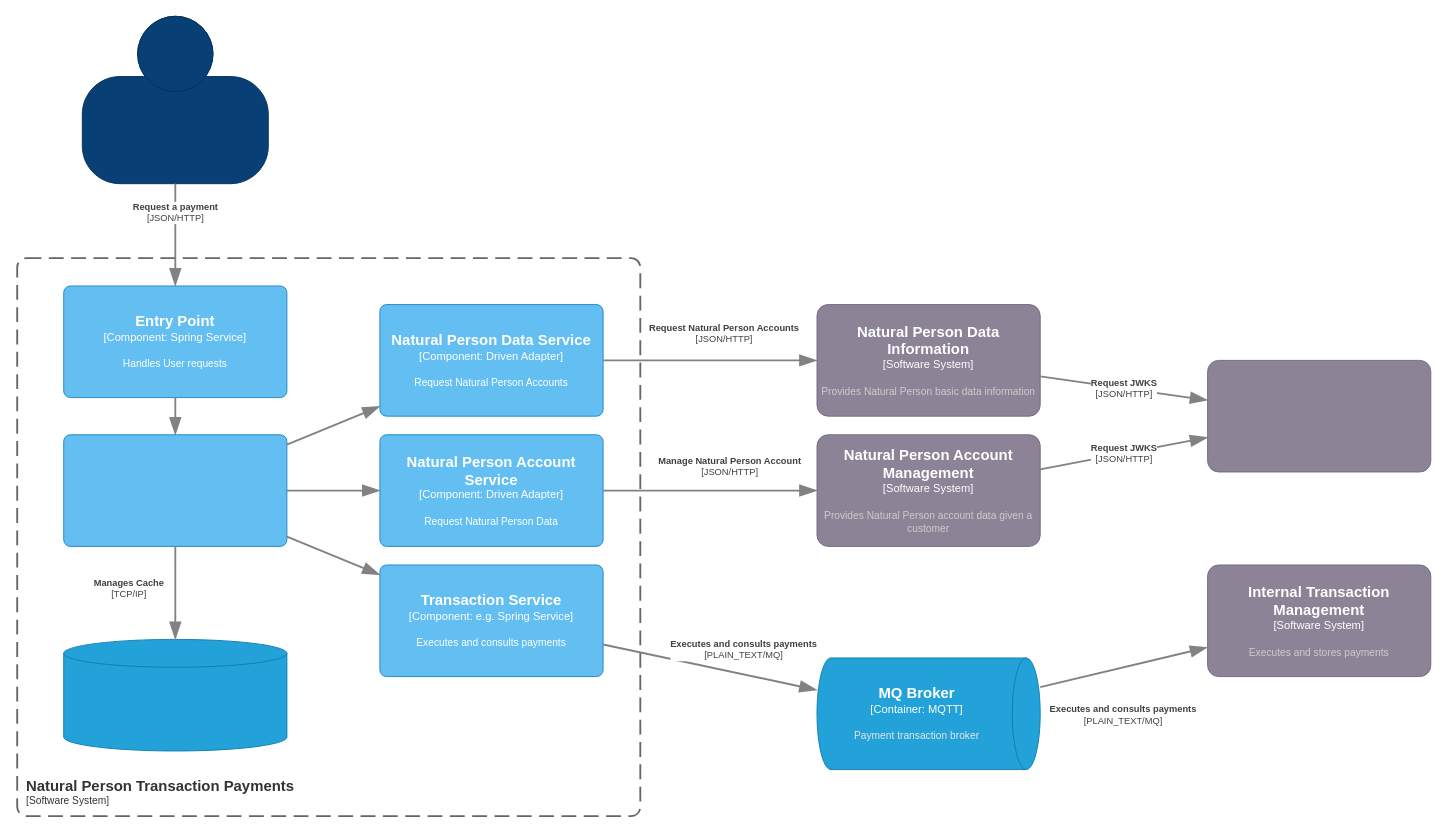
Some shapes in this 1447 by 833 pixel diagram are drawn without their labels. The shapes that lost their labels are listed below. From the top down, each one's centre as x and y in pixels, then its label:
At point 174,99: "Natural Person [Person]".
At point 1319,415: "JWKS Provider [Software System] Stores and provides JWKS keys".
At point 175,490: "Domain [Component: Java] Handles the application logic".
At point 175,694: "Cache DB [Container: Redis] Stores the most recent transactions".
